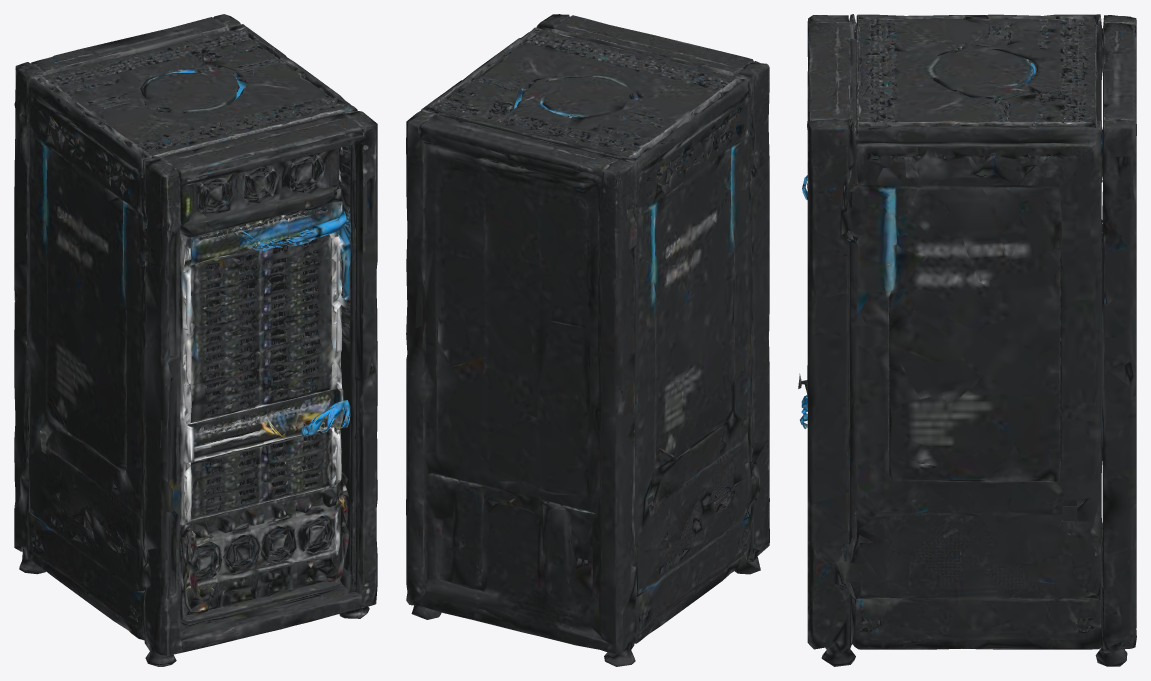
File: balanced-safe.glb
The picture shows the model from 3 angles, left to right: view 1: azimuth 30°, elevation 25°; view 2: azimuth 150°, elevation 25°; view 3: azimuth 270°, elevation 25°; orthographic projection. The views are drawn at different scales.
Size of the model in its own units: 0.892 by 1.9 by 1.08.
1 material, 1 textured.
